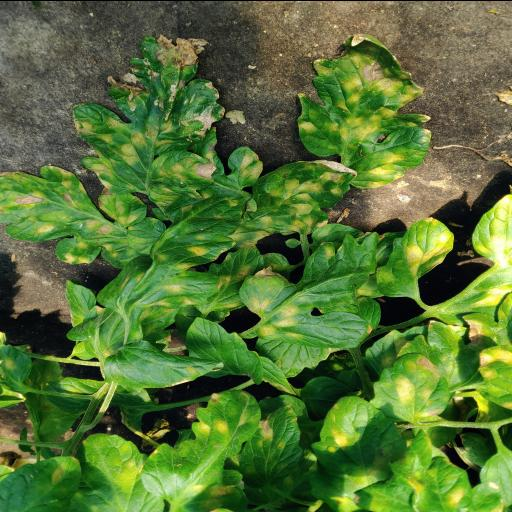Leaf Mold: (70, 34, 226, 194), (95, 191, 258, 338), (296, 30, 434, 186), (238, 230, 406, 348), (0, 164, 147, 268), (140, 388, 262, 512), (310, 394, 407, 512), (250, 158, 352, 234), (374, 216, 454, 296), (368, 352, 450, 421)
